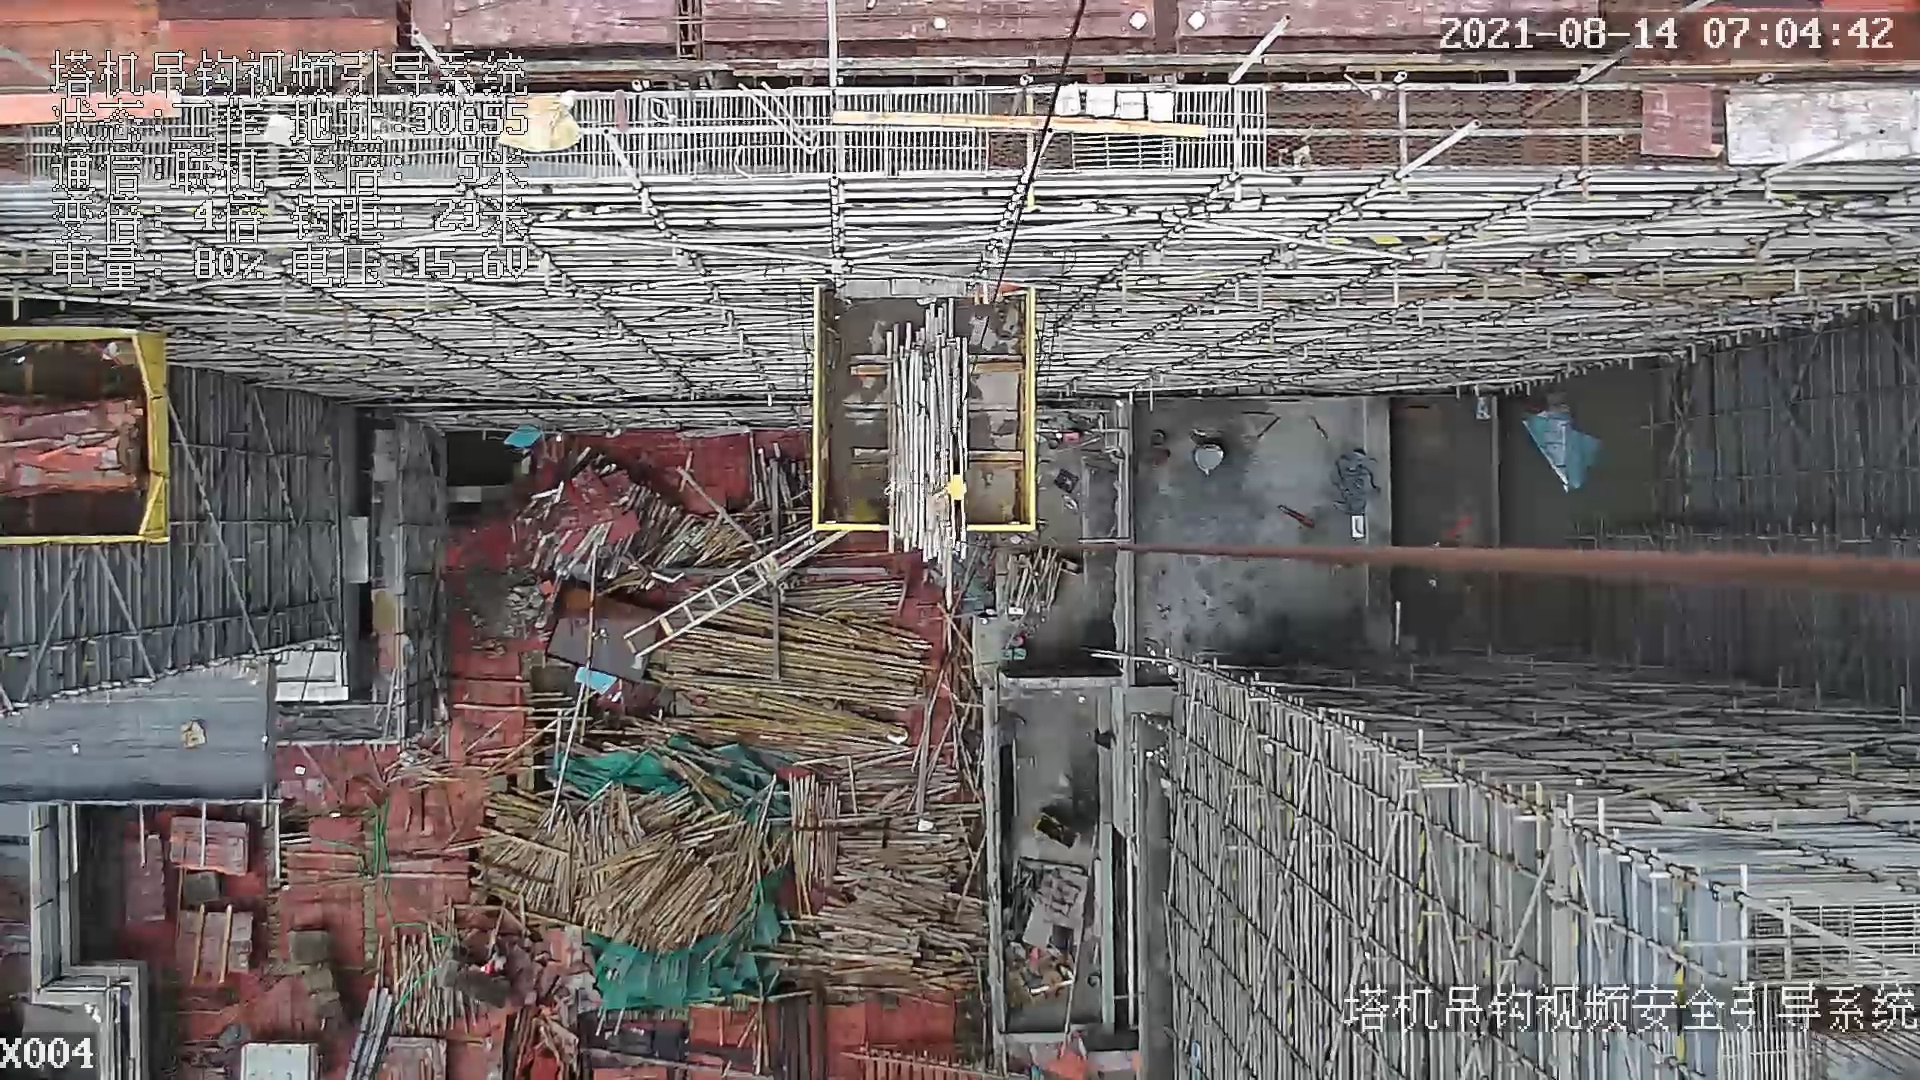hook: (945, 429, 975, 556)
